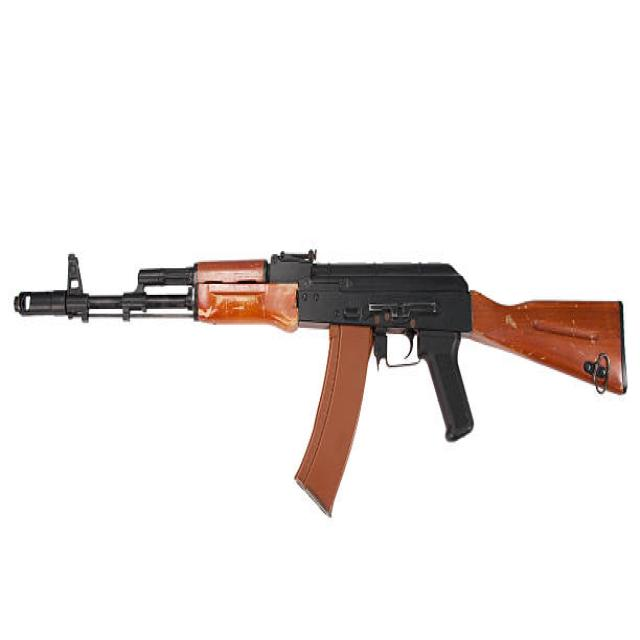rifle: (10, 237, 635, 521)
